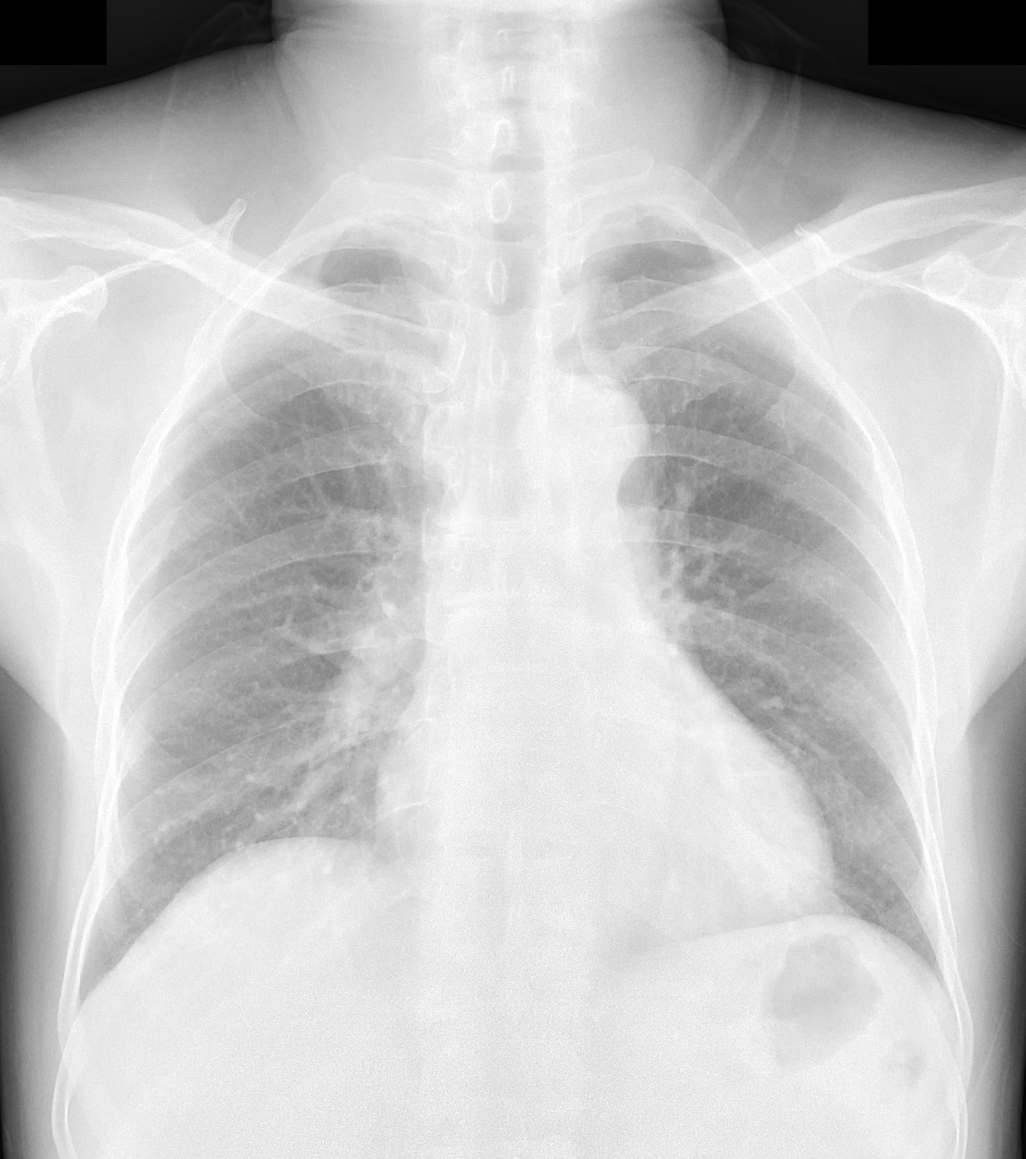Aortic enlargement: (538, 376, 655, 506)
Cardiomegaly: (365, 751, 846, 922)
Pleural thickening: (598, 206, 711, 243)
